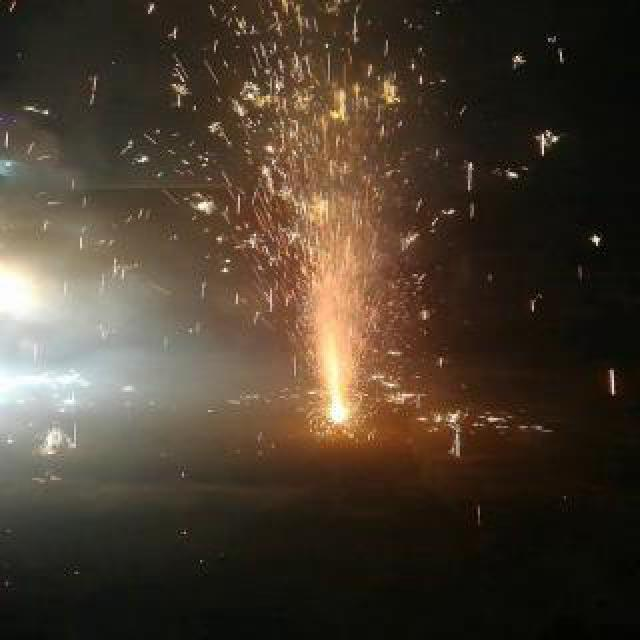Fire: (139, 9, 505, 451)
